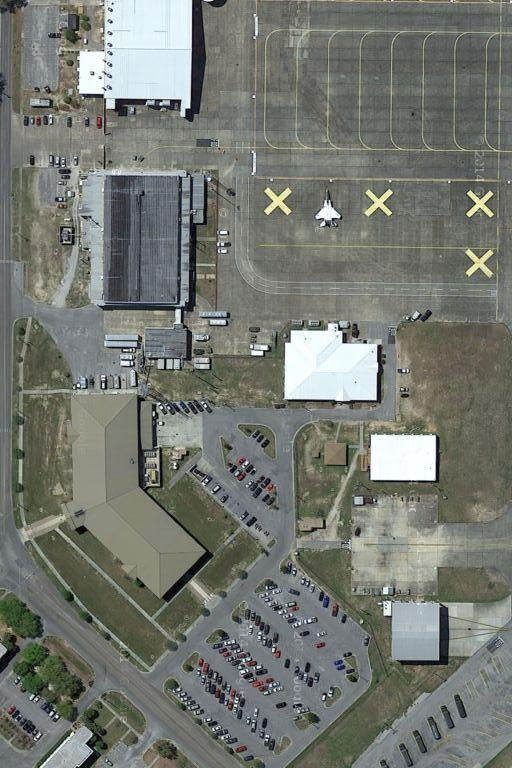F-15: (314, 182, 346, 231)
